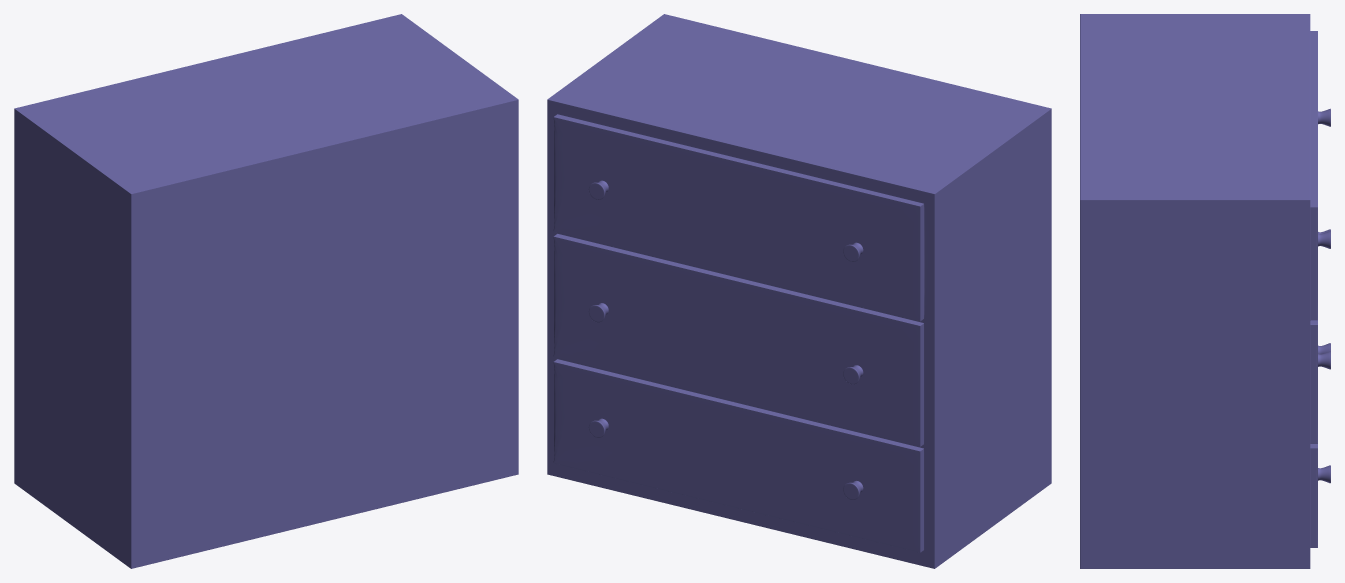
Rendered from lower dresser.fbx.
3 views of the same model, side by side, from view 1: azimuth 30°, elevation 25°; view 2: azimuth 150°, elevation 25°; view 3: azimuth 270°, elevation 25° (orthographic).
Visible parts, largest first — view 1: lower_dresser; view 2: lower_dresser; view 3: lower_dresser.
Boxes of the visible parts, x1,y1,x2,y2 form: lower_dresser: [14, 14, 518, 568]; lower_dresser: [547, 14, 1051, 568]; lower_dresser: [1080, 14, 1330, 568].
Size of the model in its own units: 18.88 by 17.45 by 10.75.
